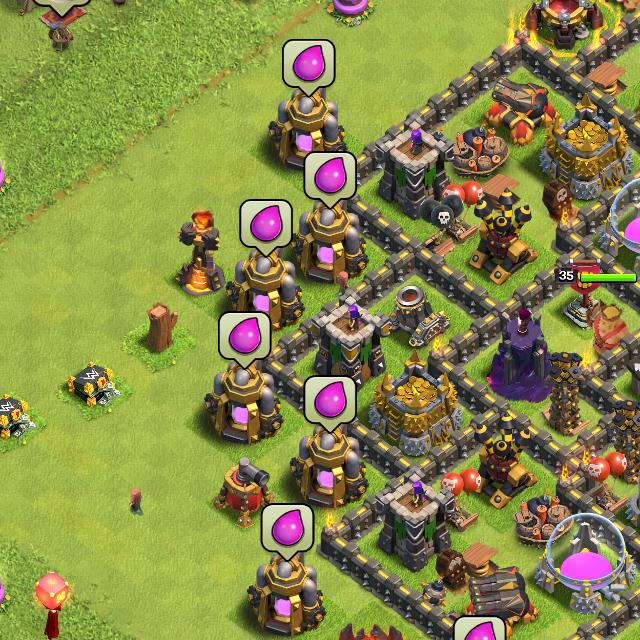Elixir: (238, 198, 294, 258), (261, 502, 315, 562), (303, 376, 358, 434), (282, 39, 336, 98), (217, 311, 271, 368), (304, 152, 357, 210), (454, 614, 507, 640)
